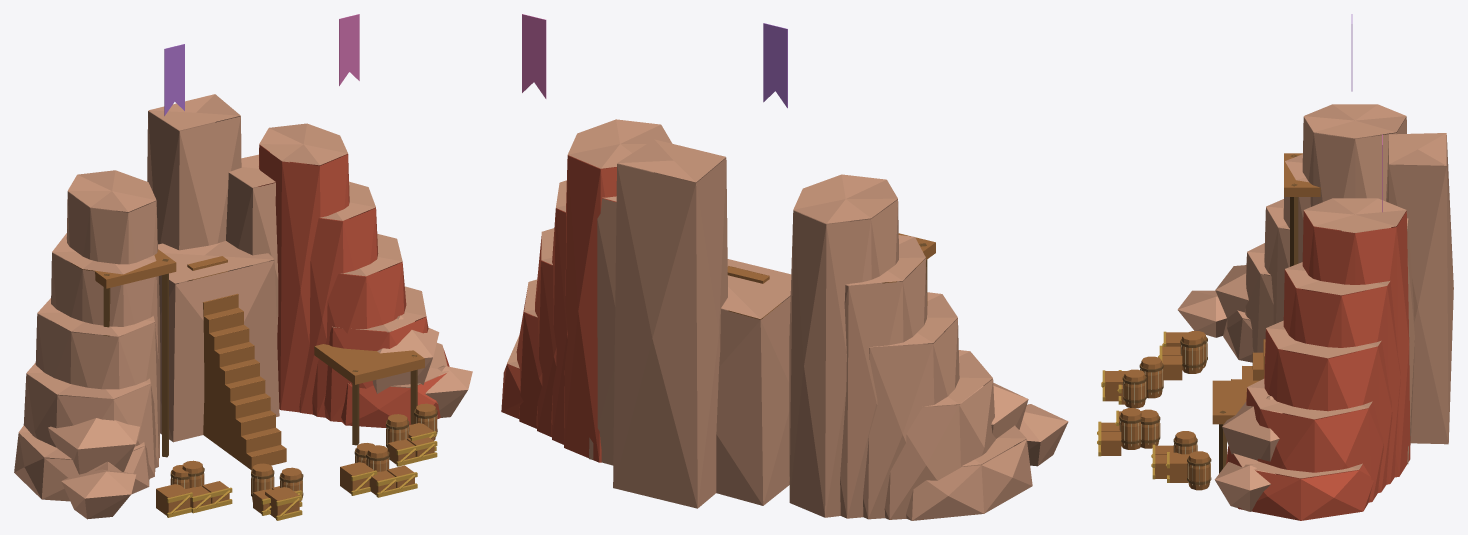
The model's file is decoration.glb.
The picture shows the model from 3 angles, left to right: view 1: azimuth 30°, elevation 25°; view 2: azimuth 150°, elevation 25°; view 3: azimuth 270°, elevation 25°; orthographic projection. The views are drawn at different scales.
Parts seen in each view (by area): view 1: 25_R2C_Kluge_LayeredSandstoneShoulders, 25_Klugetown_CargoStairsAndBanners, 25_ComparisonReview_DetailCorrections, 25_R2C_Kluge_DenseCargoGroups; view 2: 25_R2C_Kluge_LayeredSandstoneShoulders, 25_Klugetown_CargoStairsAndBanners, 25_ComparisonReview_DetailCorrections; view 3: 25_R2C_Kluge_LayeredSandstoneShoulders, 25_ComparisonReview_DetailCorrections, 25_R2C_Kluge_DenseCargoGroups, 25_Klugetown_CargoStairsAndBanners.
Boxes of the visible parts, box(x1,y1,x2,y2) form: 25_R2C_Kluge_LayeredSandstoneShoulders: box(14, 94, 449, 501); 25_Klugetown_CargoStairsAndBanners: box(156, 14, 437, 520); 25_ComparisonReview_DetailCorrections: box(48, 249, 472, 519); 25_R2C_Kluge_DenseCargoGroups: box(182, 414, 437, 515); 25_R2C_Kluge_LayeredSandstoneShoulders: box(501, 119, 1032, 520); 25_Klugetown_CargoStairsAndBanners: box(522, 14, 787, 319); 25_ComparisonReview_DetailCorrections: box(882, 233, 1068, 466); 25_R2C_Kluge_LayeredSandstoneShoulders: box(1223, 104, 1453, 520); 25_ComparisonReview_DetailCorrections: box(1177, 153, 1320, 511); 25_R2C_Kluge_DenseCargoGroups: box(1097, 332, 1204, 479); 25_Klugetown_CargoStairsAndBanners: box(1101, 14, 1382, 490).
Bounding box in the file's own units: 1.45 × 1.24 × 1.05.
